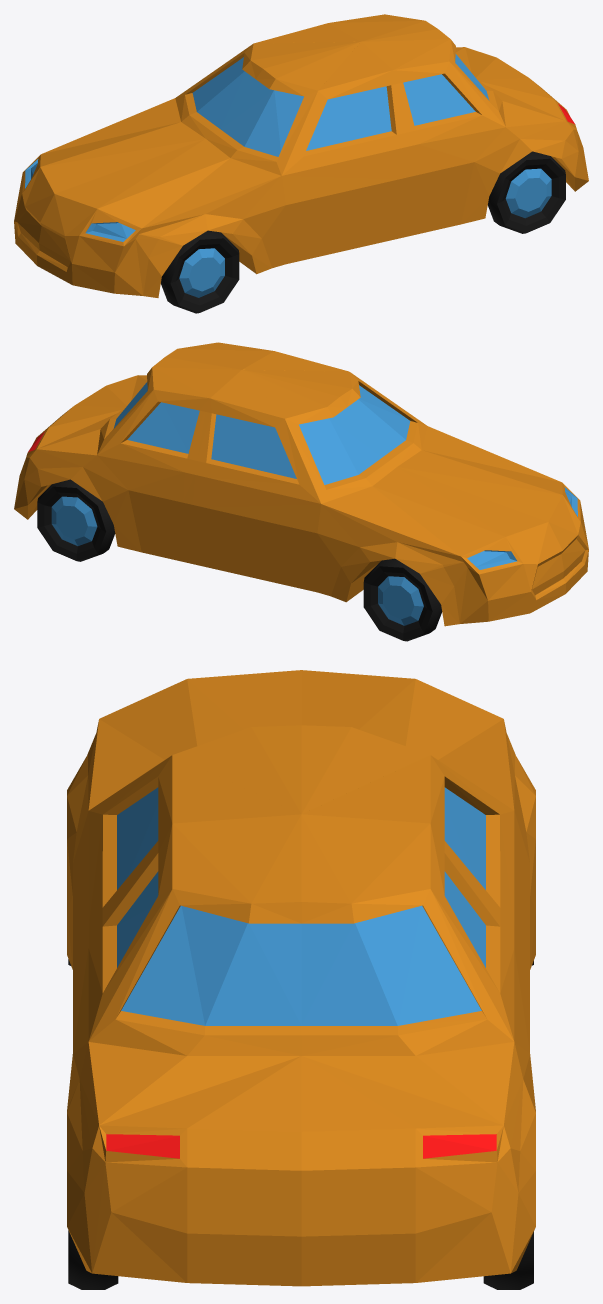
Rendered from Car.FBX.
3 renders of one model, top to bottom at view 1: azimuth 30°, elevation 25°; view 2: azimuth 150°, elevation 25°; view 3: azimuth 270°, elevation 25°, orthographic. The views are drawn at different scales.
Parts seen in each view (by area): view 1: Cylinder001; view 2: Cylinder001; view 3: Cylinder001.
Part boxes in pixels (bbox=[...]): Cylinder001: bbox=[14, 14, 588, 313]; Cylinder001: bbox=[14, 342, 588, 641]; Cylinder001: bbox=[67, 670, 535, 1289].
Size of the model in its own units: 30.02 by 9.96 by 11.88.
